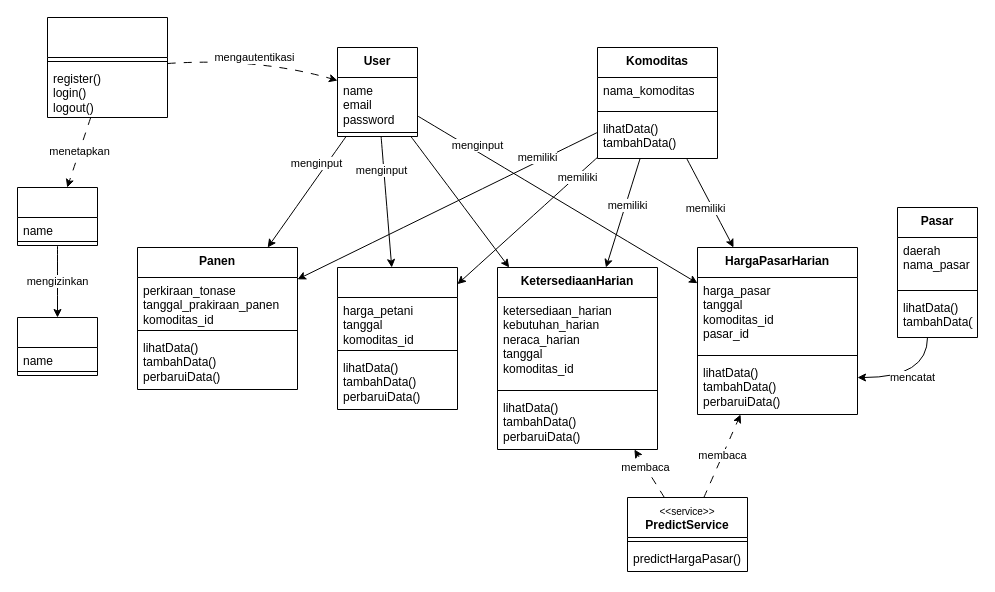
Some shapes in this 995 by 592 pixel diagram are drawn without their labels. Each missing label, with the box of its shape:
<<service>> AuthService: (46, 16, 168, 118)
HargaPetaniHarian: (336, 266, 458, 410)
Permission: (16, 316, 98, 376)
Role: (16, 186, 98, 246)
